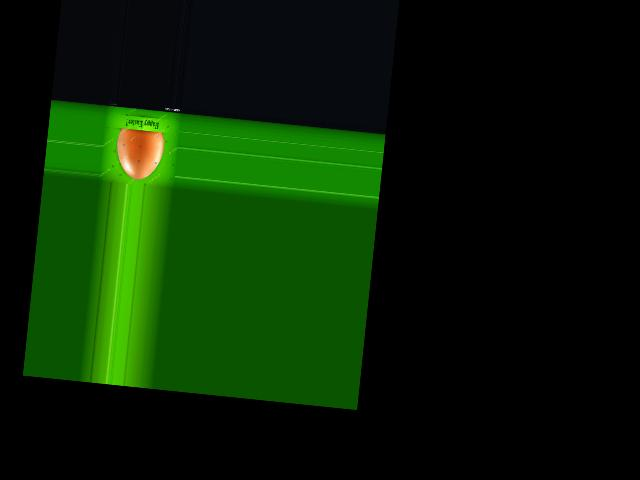egg: (113, 128, 164, 181)
